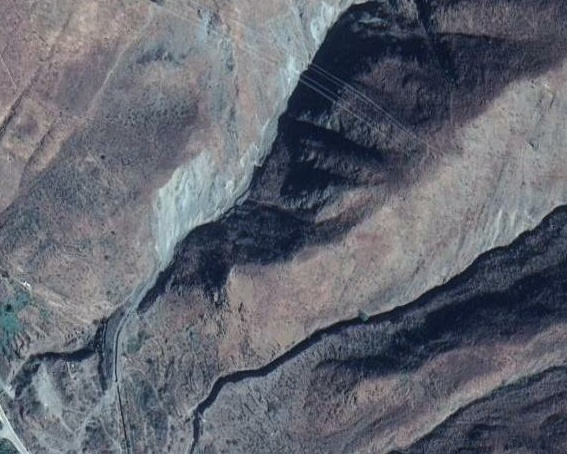slope: (152, 151, 236, 271)
